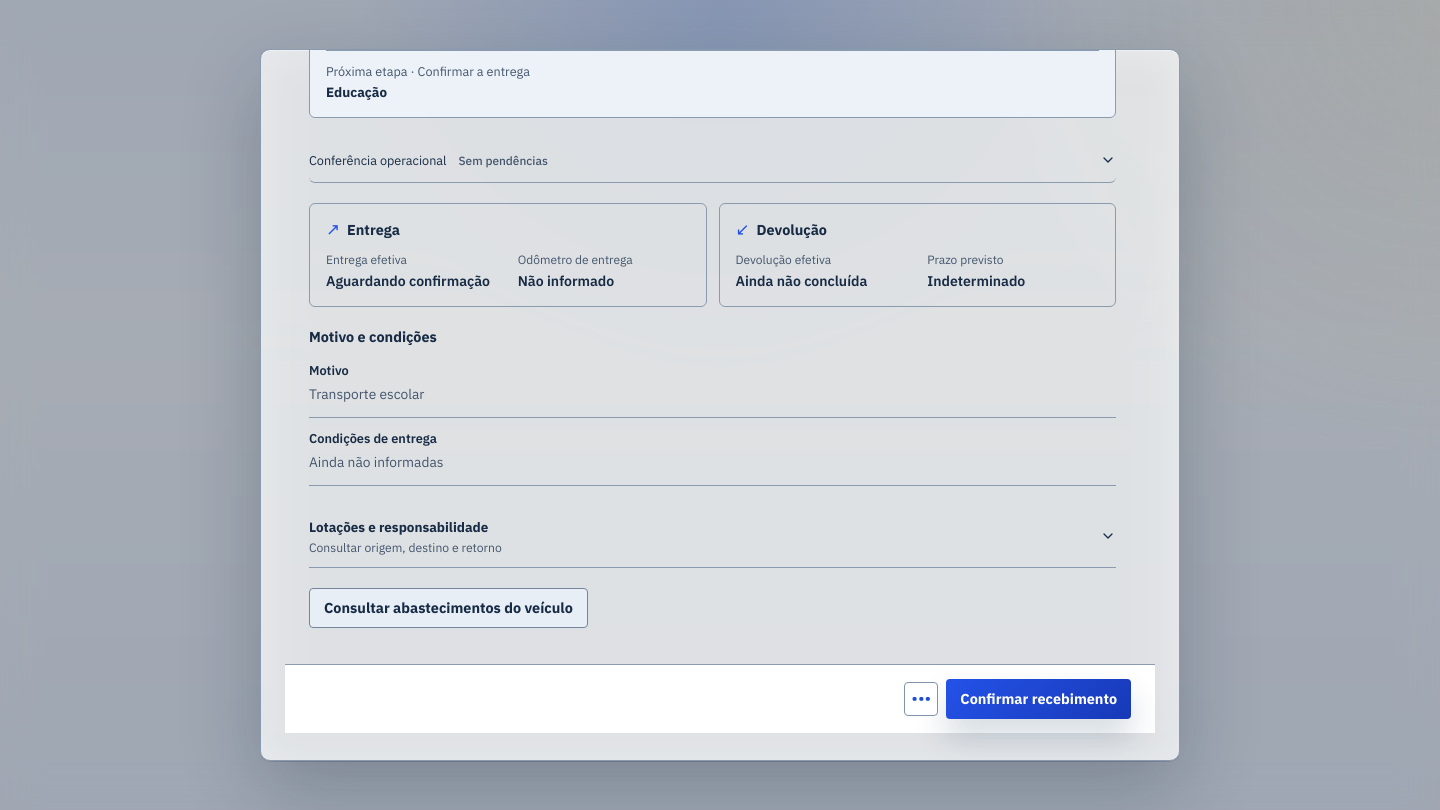
Test: mantém a ação principal de AWAITING_RECEIPT no rodapé e as demais no menu
(page scrolled)
Expected: the footer "Confirmar recebimento" is shown, [285,664,1155,733]
What coordinates should you click on to do the following:
click the button "Confirmar recebimento"
I would click on:
 (1039, 699)
Its box is [946,679,1131,719].
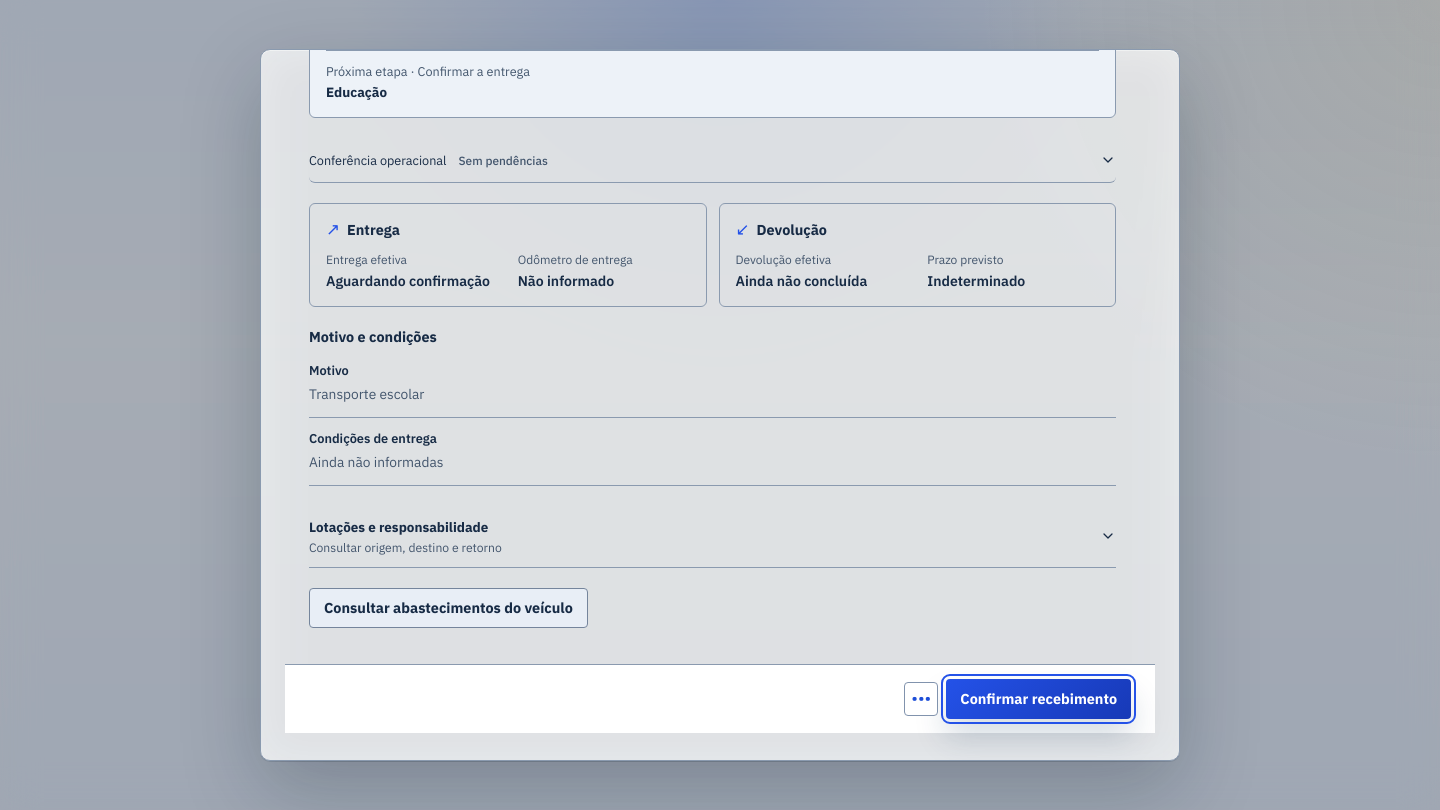
What coordinates should you click on to do the following:
click the button named "Mais ações do empréstimo de ABC1234"
I would click on:
 (921, 699)
Its box is [904,682,938,716].
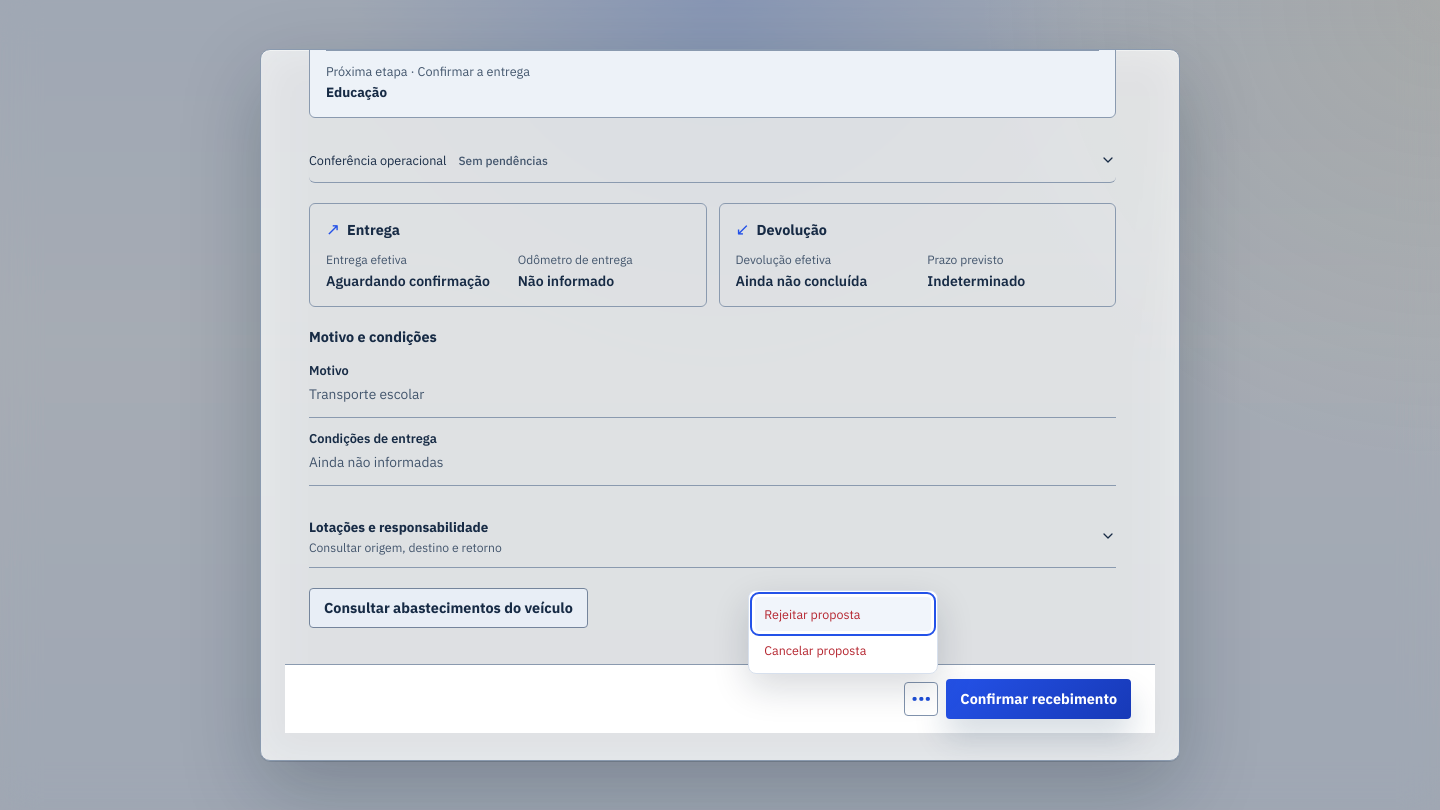
Expected: the menu item "Rejeitar proposta" is enabled, [755,597,931,631]
